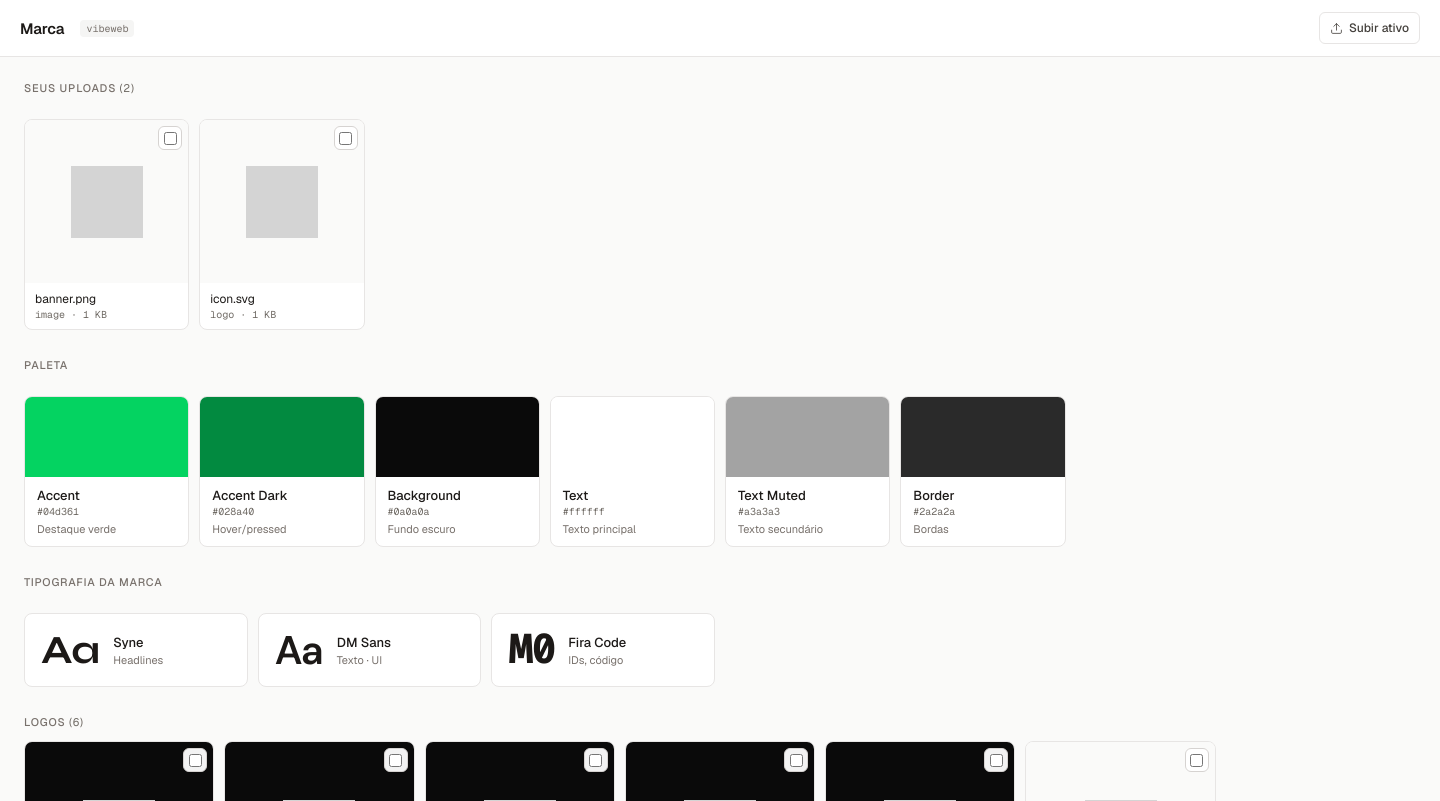
Test: BrandLibrary — uploads (list + select + delete) › selecting an upload via checkbox shows the global selection toolbar
This screenshot has width=1440, height=801.
Expected: the button "Excluir" is not shown
Click the checkbox named "Selecionar banner.png" at point(170, 138), box [164,132,177,144]
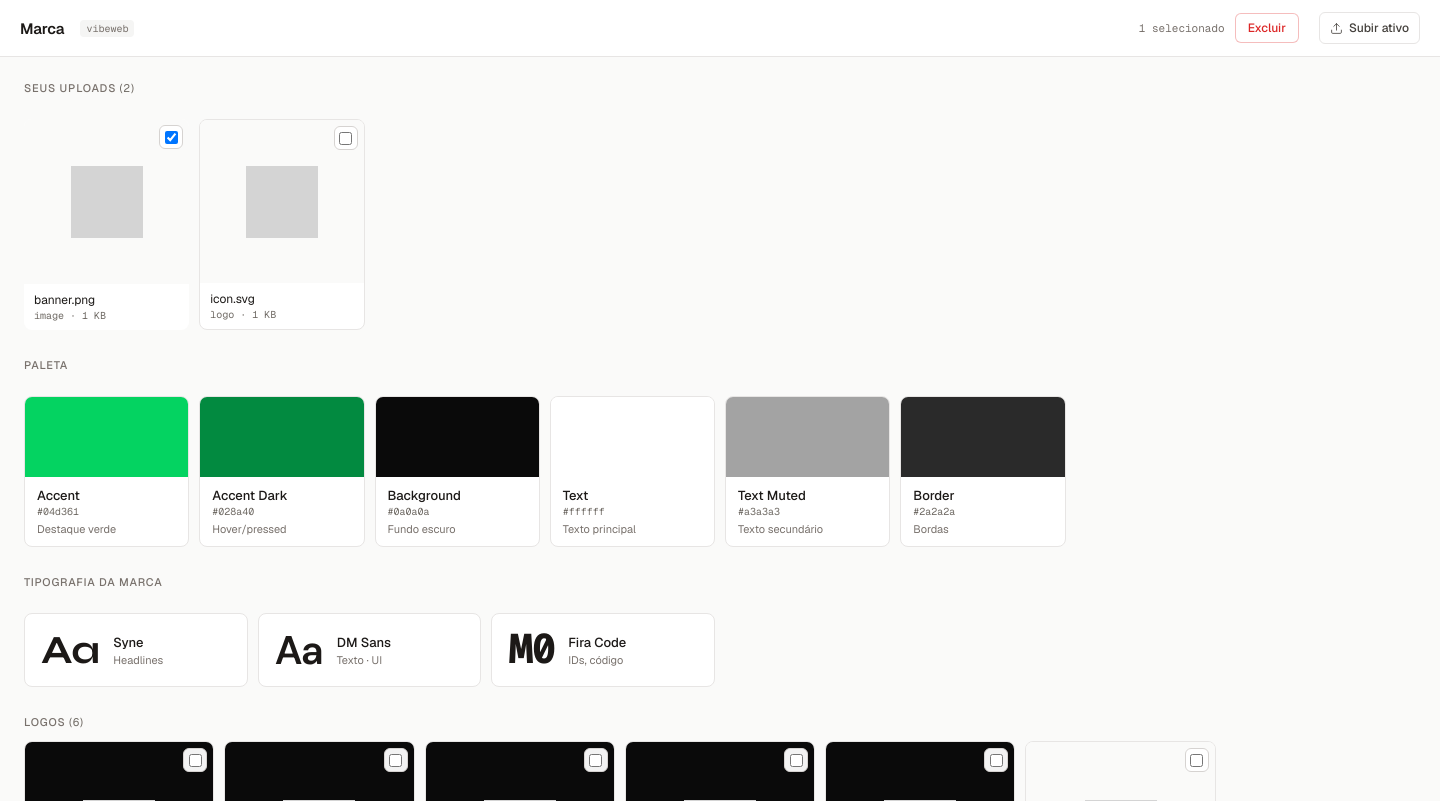
Expected: the button "Excluir" is shown, [1235,13,1299,43]
Expected: the text "1 selecionado" is shown, [1139,21,1225,35]
Click the checkbox named "Selecionar icon.svg" at point(346, 138), box [339,132,352,144]
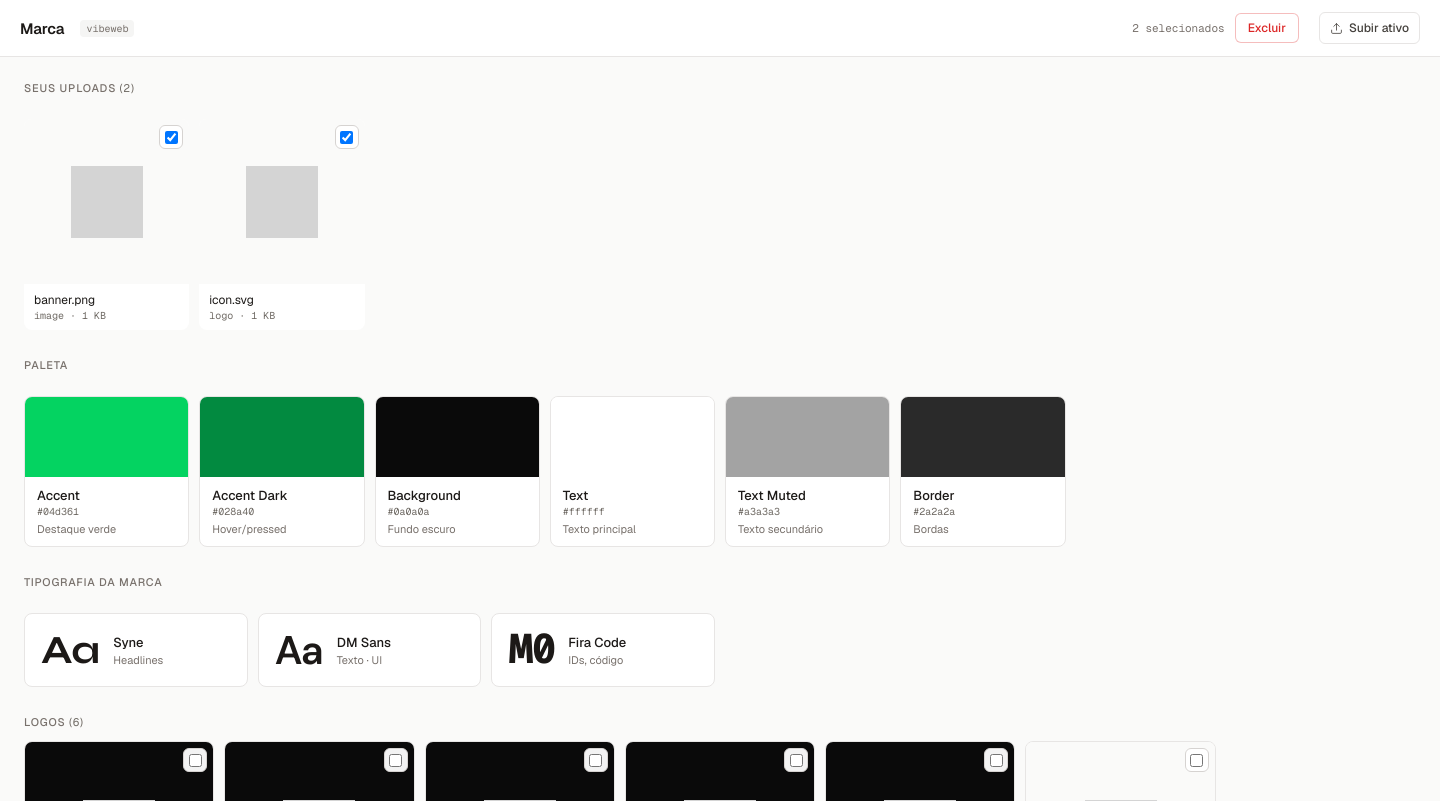
Expected: the text "2 selecionados" is shown, [1132,21,1225,35]
